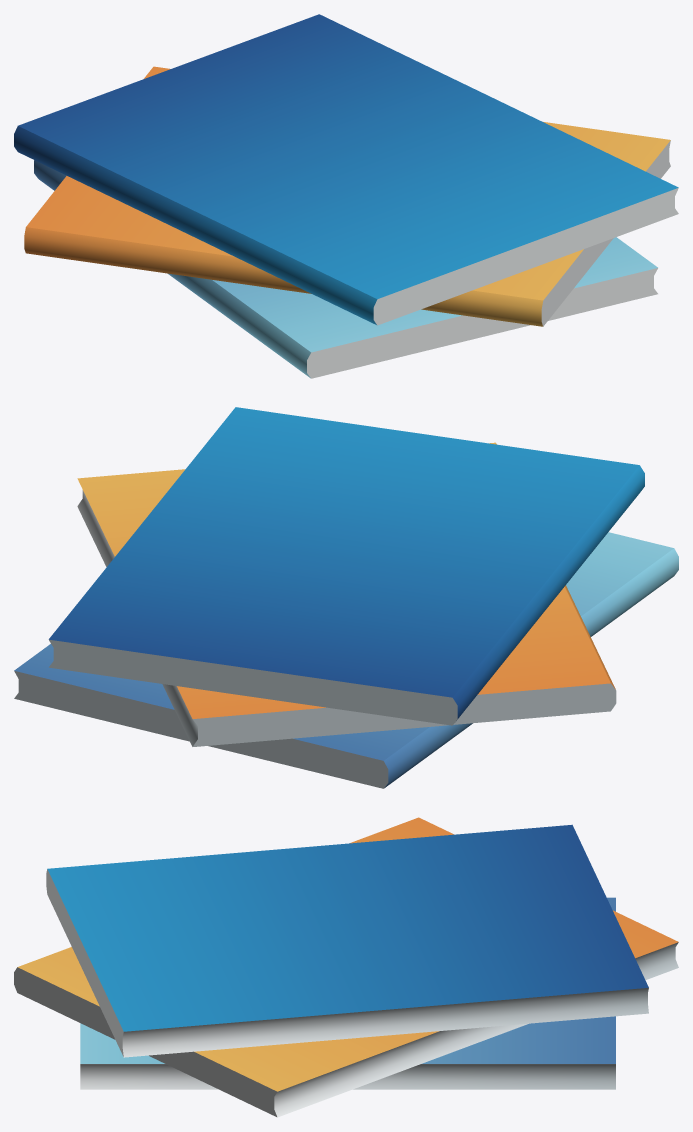
Rendered from comicbooks_stacked.glb.
The picture shows the model from 3 angles, top to bottom: view 1: azimuth 30°, elevation 25°; view 2: azimuth 150°, elevation 25°; view 3: azimuth 270°, elevation 25°; orthographic projection. The views are drawn at different scales.
Visible parts, largest first — view 1: comicbooks_stacked; view 2: comicbooks_stacked; view 3: comicbooks_stacked.
Part boxes in pixels (x1,y1,x2,y2): comicbooks_stacked: [14, 14, 678, 378]; comicbooks_stacked: [14, 407, 678, 788]; comicbooks_stacked: [14, 817, 678, 1117].
Size of the model in its own units: 0.8406 by 0.1113 by 0.8561.
Materials: 1 (1 with a texture image).
